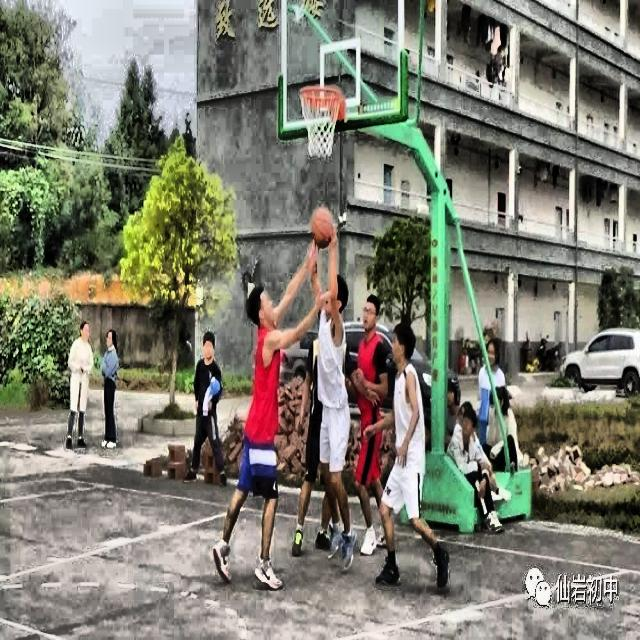rim: (299, 86, 342, 156)
